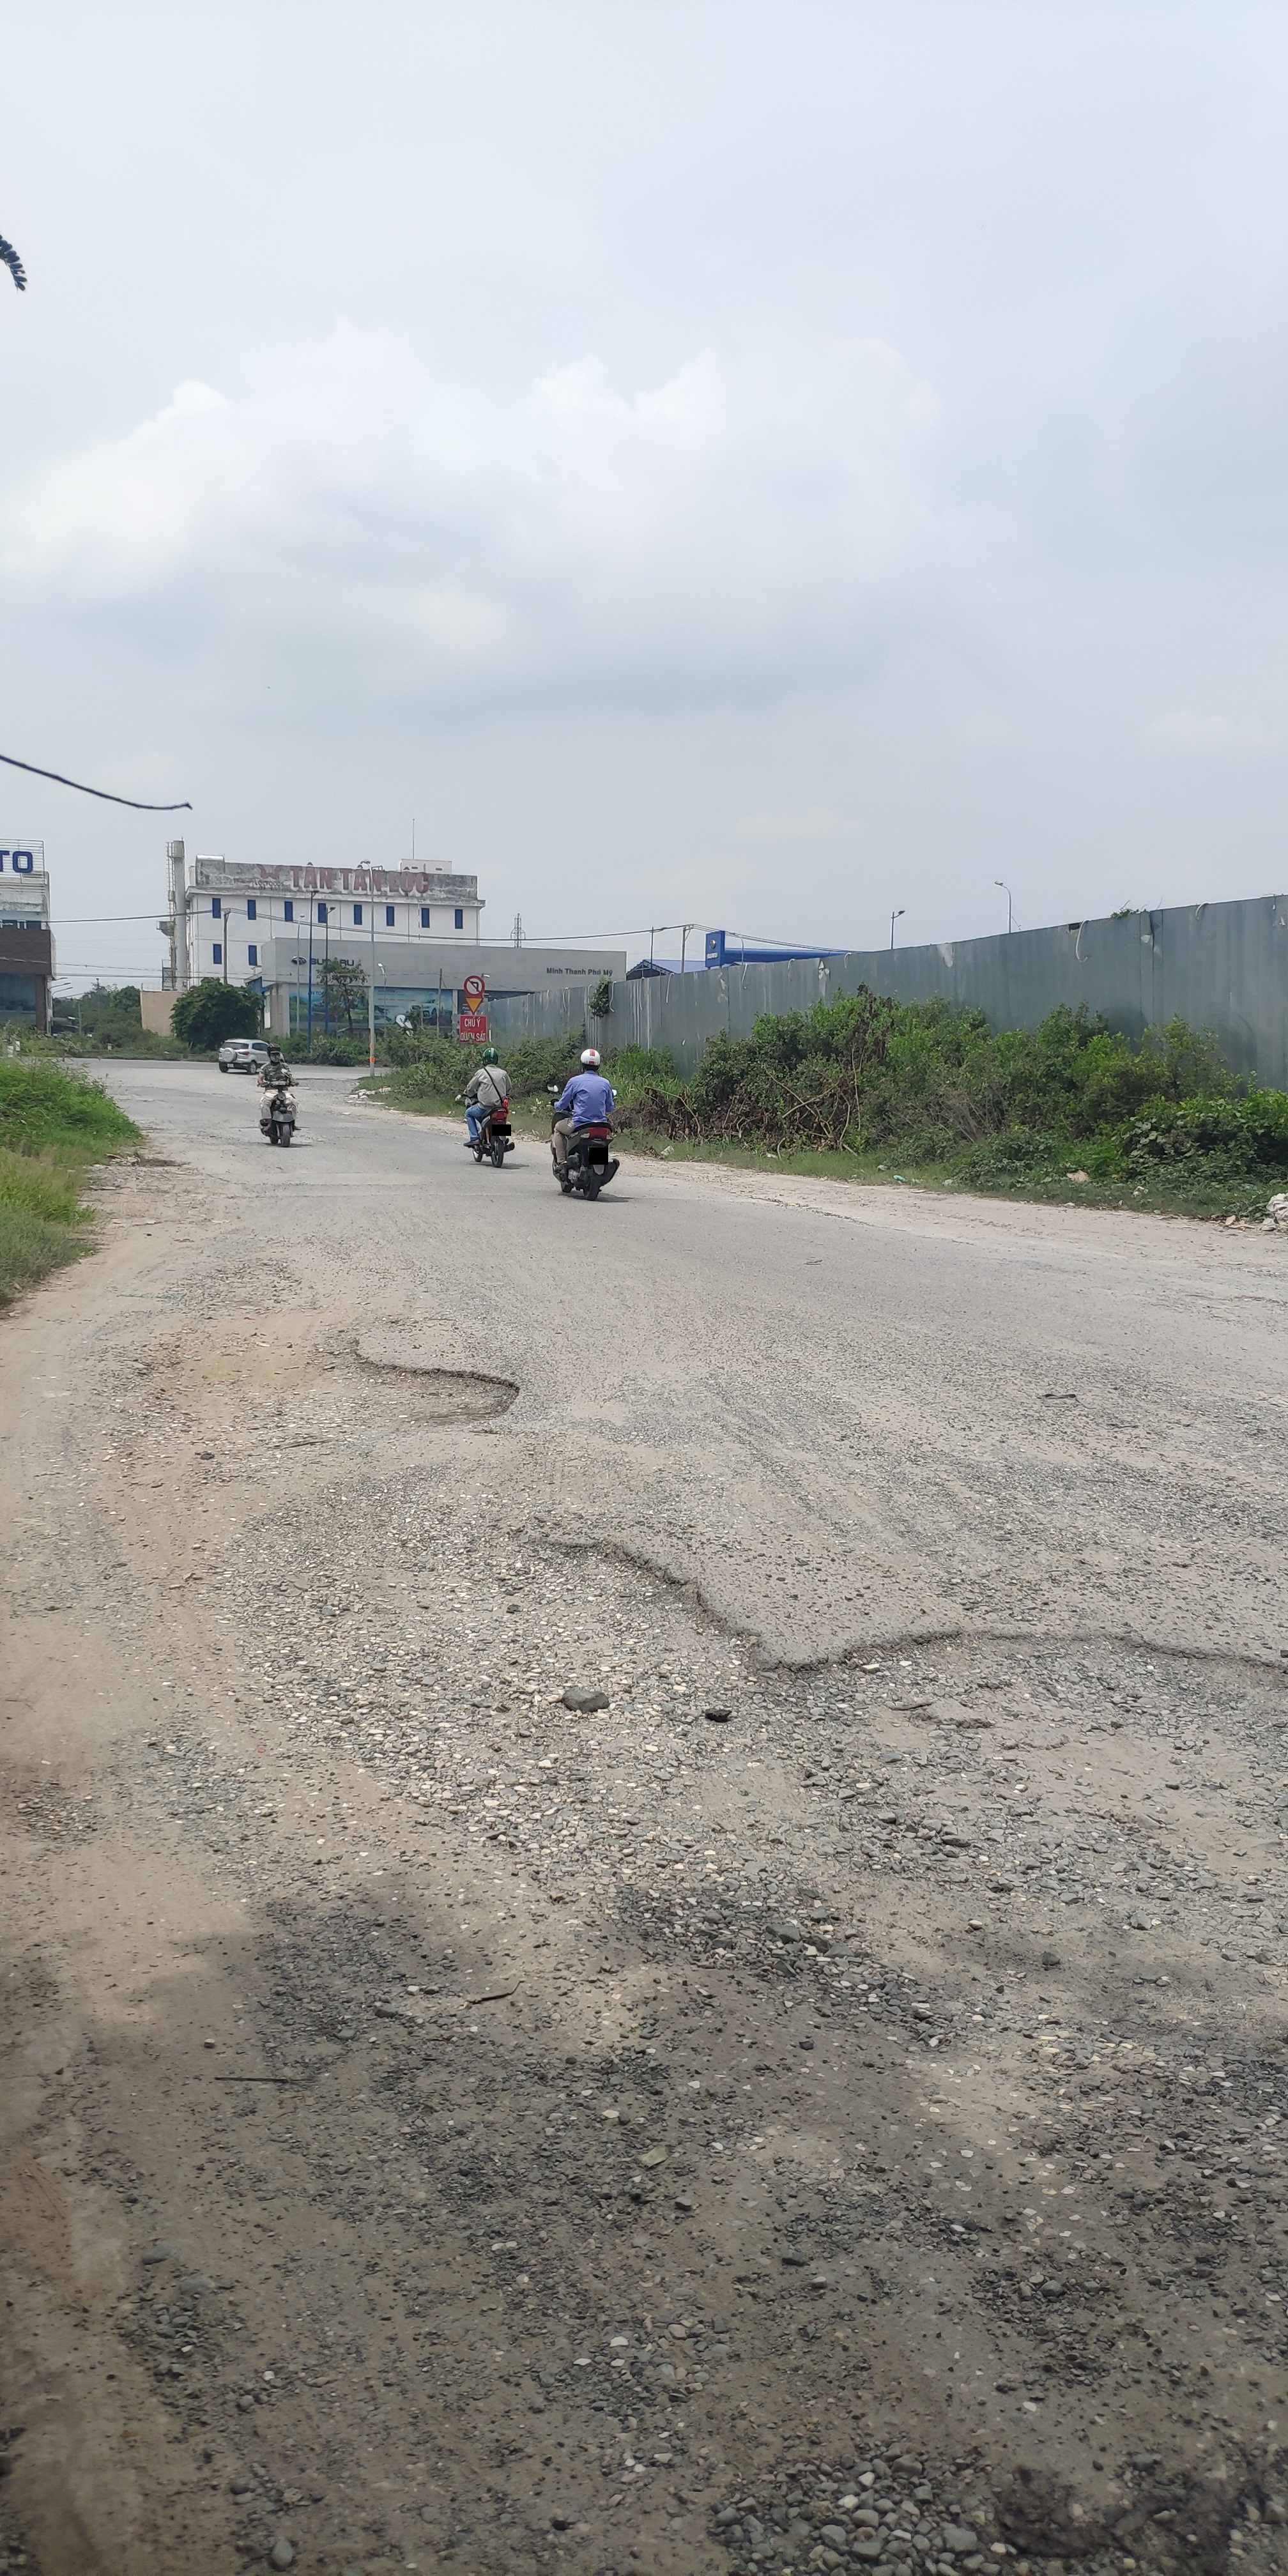hole: (775, 1607, 1288, 1801), (476, 1510, 782, 1794), (112, 1322, 532, 1462)
